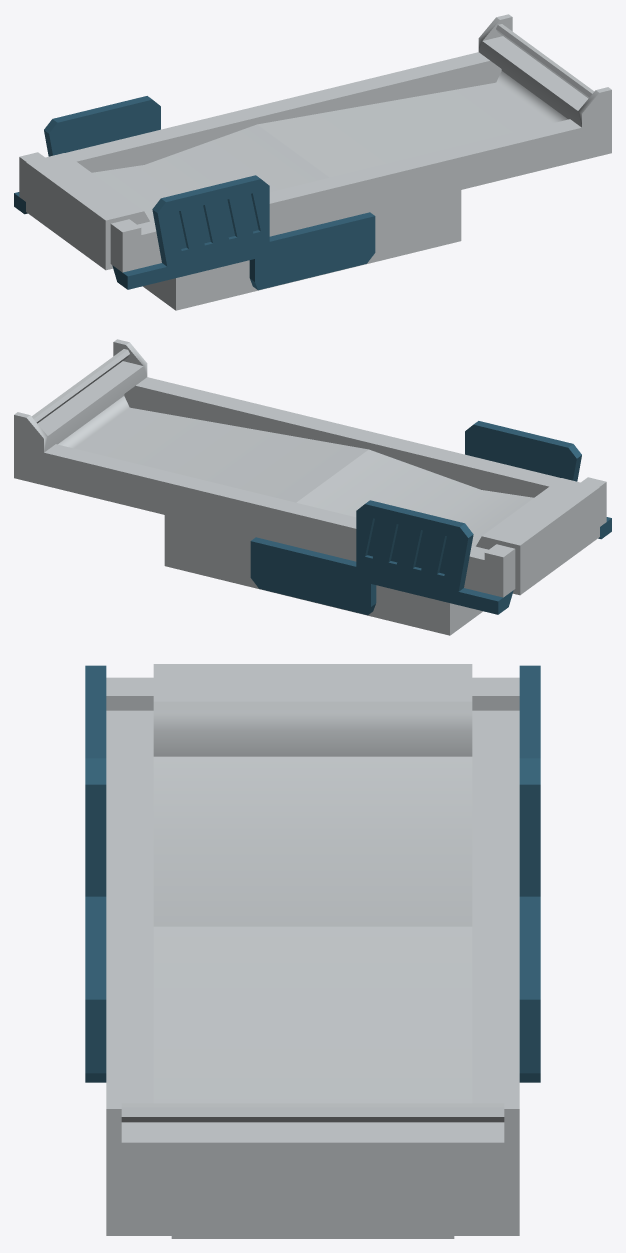
Rendered from Low_Chuang.fbx.
3 renders of one model, top to bottom at view 1: azimuth 30°, elevation 25°; view 2: azimuth 150°, elevation 25°; view 3: azimuth 270°, elevation 25°, orthographic. The views are drawn at different scales.
Visible parts, largest first — view 1: chuanguv:pCube3, chuanguv:polySurface1, chuanguv:pCube4, chuanguv:polySurface2, chuanguv:pCylinder1; view 2: chuanguv:pCube3, chuanguv:polySurface2, chuanguv:pCube4, chuanguv:polySurface1, chuanguv:pCylinder1; view 3: chuanguv:pCube3, chuanguv:pCube4, chuanguv:polySurface1, chuanguv:polySurface2, chuanguv:pCylinder1.
Part boxes in pixels (<box>): chuanguv:pCube3: <box>19,52,611,310</box>; chuanguv:polySurface1: <box>112,175,375,290</box>; chuanguv:pCube4: <box>478,14,611,127</box>; chuanguv:polySurface2: <box>14,96,160,214</box>; chuanguv:pCylinder1: <box>496,24,594,98</box>; chuanguv:pCube3: <box>14,377,606,635</box>; chuanguv:polySurface2: <box>250,500,513,615</box>; chuanguv:pCube4: <box>14,339,147,452</box>; chuanguv:polySurface1: <box>465,421,611,539</box>; chuanguv:pCylinder1: <box>31,349,129,423</box>; chuanguv:pCube3: <box>106,664,519,1238</box>; chuanguv:pCube4: <box>106,1097,519,1170</box>; chuanguv:polySurface1: <box>85,665,106,1082</box>; chuanguv:polySurface2: <box>519,665,540,1082</box>; chuanguv:pCylinder1: <box>121,1103,504,1122</box>.
Bounding box in the file's own units: 8.69 × 2.22 × 3.46.
4 materials, 4 textured.
